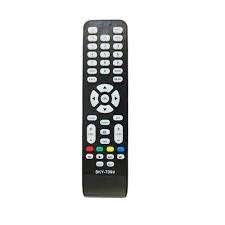remote control: (79, 17, 134, 205)
